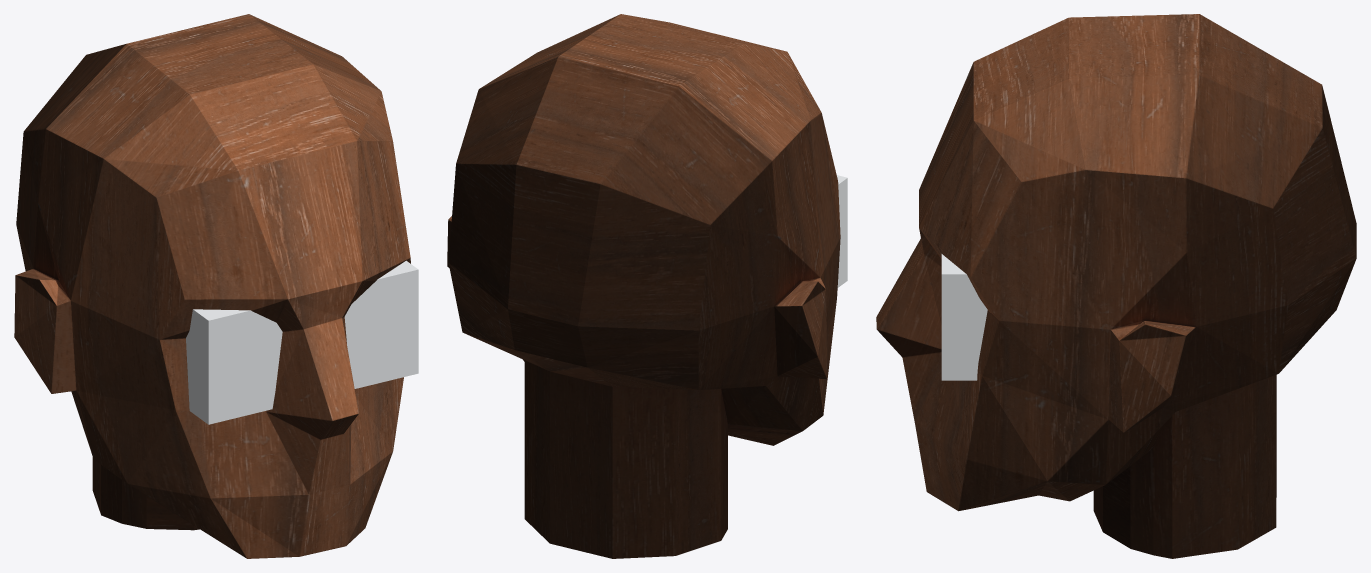
The model's file is DummyHead.fbx.
3 renders of one model, left to right at view 1: azimuth 30°, elevation 25°; view 2: azimuth 150°, elevation 25°; view 3: azimuth 270°, elevation 25°, orthographic. The views are drawn at different scales.
Parts seen in each view (by area): view 1: DummyHead, CameraBody, Eye-R, Eye-L; view 2: DummyHead, CameraBody; view 3: DummyHead, CameraBody.
Part boxes in pixels (left/top/right/bottom): DummyHead: left=14, top=14, right=410, bottom=558; CameraBody: left=186, top=260, right=418, bottom=424; Eye-R: left=232, top=338, right=279, bottom=387; Eye-L: left=351, top=309, right=397, bottom=358; DummyHead: left=447, top=14, right=840, bottom=558; CameraBody: left=836, top=175, right=847, bottom=287; DummyHead: left=876, top=14, right=1356, bottom=558; CameraBody: left=941, top=254, right=987, bottom=380.
Bounding box in the file's own units: 18.92 × 22.07 × 20.56.
